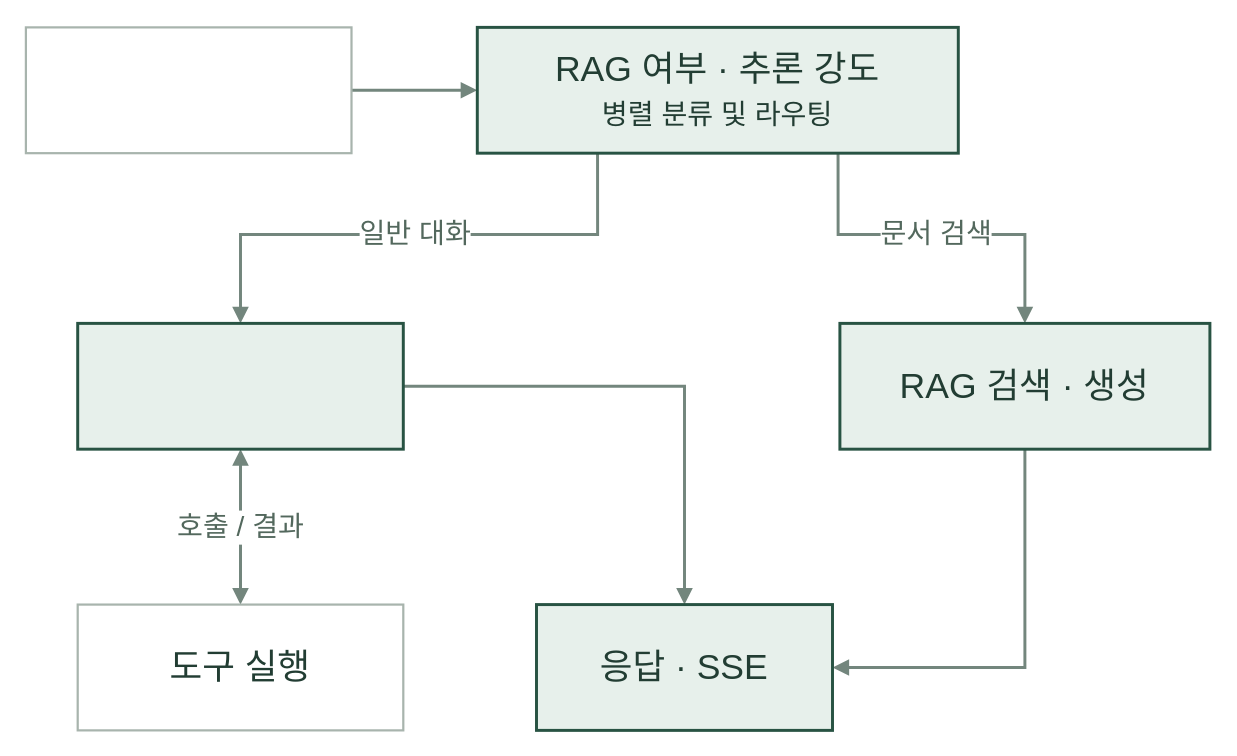
This 1237x756 diagram has some shape labels left out. Here are the shapes that lost their labels. From the top down, the centre of each, then its label:
At point (188, 90): "질문 · 대화 맥락".
At point (239, 385): "일반 대화 LLM".
